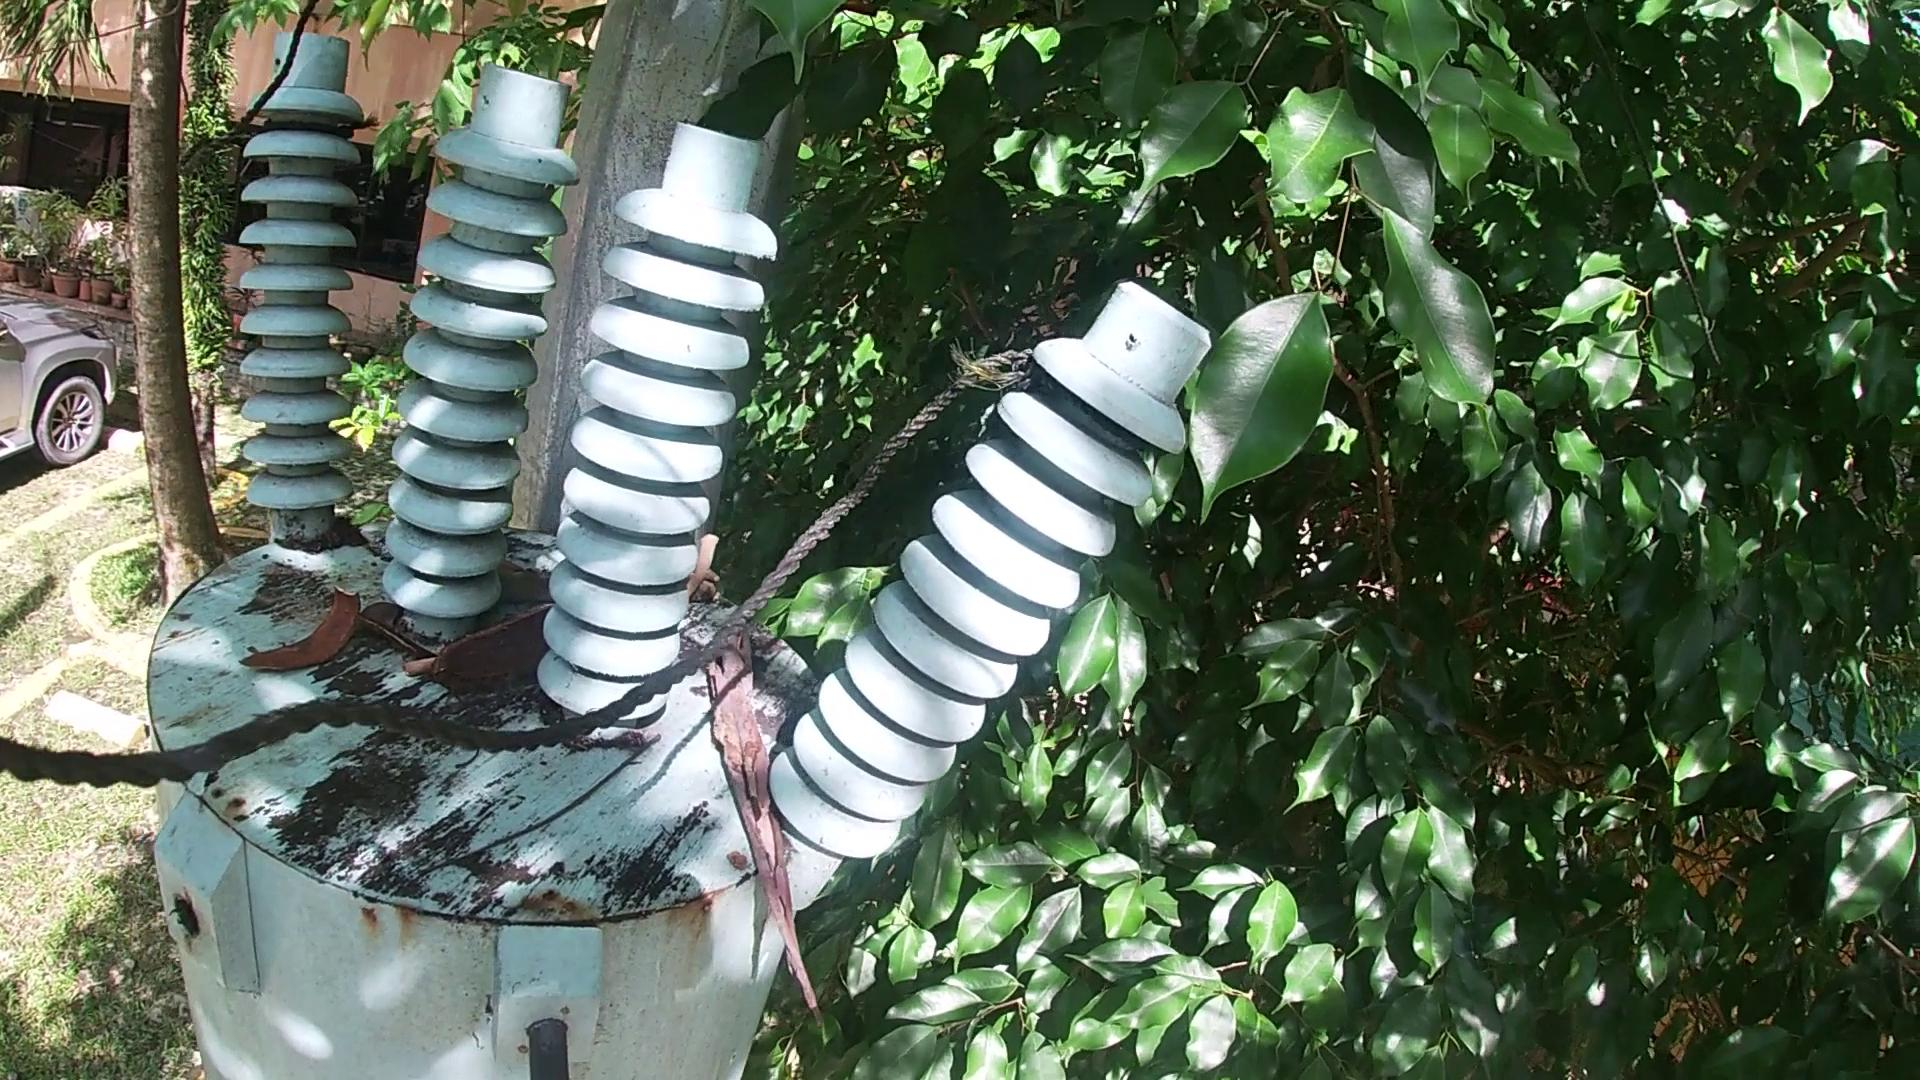leaf: (375, 607, 425, 665)
mahogany fruit: (417, 733, 666, 890), (236, 593, 363, 684), (425, 617, 541, 700)
tree branch: (678, 583, 836, 1046), (684, 535, 723, 613), (500, 572, 553, 607), (410, 642, 433, 683)
